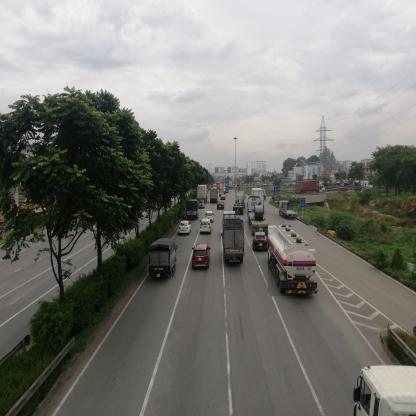car: (194, 244, 210, 270), (180, 221, 192, 238), (254, 235, 266, 251), (201, 219, 212, 236), (207, 212, 214, 222), (219, 203, 225, 210)
container: (249, 197, 268, 233), (297, 182, 326, 195)
truck: (269, 227, 318, 298), (150, 240, 177, 279), (224, 221, 245, 265), (341, 179, 375, 191), (280, 204, 298, 220), (186, 202, 200, 221)
